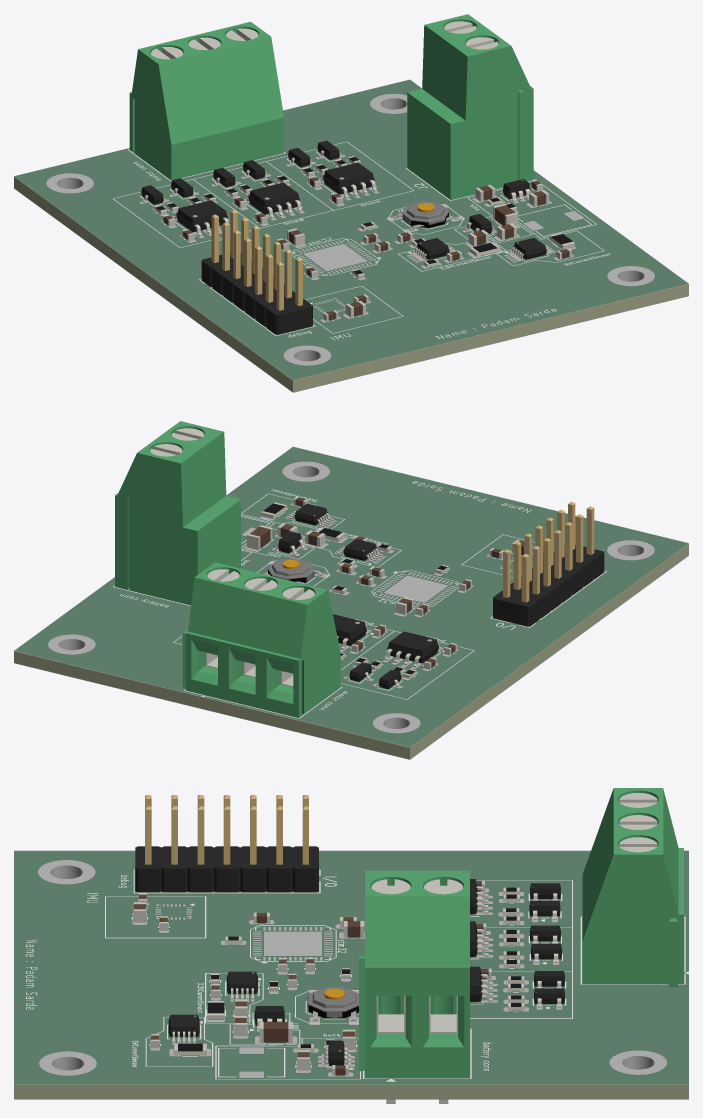
File: board.glb
3 renders of one model, top to bottom at view 1: azimuth 30°, elevation 25°; view 2: azimuth 150°, elevation 25°; view 3: azimuth 270°, elevation 25°, orthographic. The views are drawn at different scales.
Visible parts, largest first — view 1: =>[0:1:1:34], =>[0:1:1:32], =>[0:1:1:25], =>[0:1:1:23], =>[0:1:1:19], =>[0:1:1:30], =>[0:1:1:31], =>[0:1:1:13] (×3), =>[0:1:1:11] (×2), =>[0:1:1:15], =>[0:1:1:33]; view 2: =>[0:1:1:34], =>[0:1:1:32], =>[0:1:1:25], =>[0:1:1:23], =>[0:1:1:19], =>[0:1:1:30], =>[0:1:1:31], =>[0:1:1:13] (×2), =>[0:1:1:11] (×2), =>[0:1:1:15], =>[0:1:1:33]; view 3: =>[0:1:1:34], =>[0:1:1:32], =>[0:1:1:23], =>[0:1:1:25], =>[0:1:1:19], =>[0:1:1:30], =>[0:1:1:31], =>[0:1:1:17] (×6), =>[0:1:1:13] (×3), =>[0:1:1:11] (×2), =>[0:1:1:15], =>[0:1:1:5] (+3 smaller).
Boxes of the visible parts, x1,y1,x2,y2 form: =>[0:1:1:34]: [14, 80, 688, 392]; =>[0:1:1:32]: [14, 79, 688, 380]; =>[0:1:1:25]: [129, 21, 283, 180]; =>[0:1:1:23]: [407, 14, 533, 199]; =>[0:1:1:19]: [201, 210, 312, 334]; =>[0:1:1:30]: [46, 94, 654, 365]; =>[0:1:1:31]: [113, 141, 609, 339]; =>[0:1:1:13] (×3): [174, 162, 377, 236]; =>[0:1:1:11] (×2): [410, 238, 552, 261]; =>[0:1:1:15]: [393, 201, 458, 230]; =>[0:1:1:33]: [15, 189, 688, 392]; =>[0:1:1:34]: [14, 447, 688, 759]; =>[0:1:1:32]: [14, 446, 688, 747]; =>[0:1:1:25]: [182, 562, 340, 717]; =>[0:1:1:23]: [115, 421, 240, 605]; =>[0:1:1:19]: [493, 501, 604, 626]; =>[0:1:1:30]: [48, 461, 654, 733]; =>[0:1:1:31]: [113, 481, 606, 718]; =>[0:1:1:13] (×2): [333, 614, 441, 667]; =>[0:1:1:11] (×2): [288, 503, 382, 562]; =>[0:1:1:15]: [263, 558, 323, 584]; =>[0:1:1:33]: [14, 556, 687, 759]; =>[0:1:1:34]: [14, 852, 688, 1098]; =>[0:1:1:32]: [14, 850, 688, 1084]; =>[0:1:1:23]: [359, 870, 469, 1103]; =>[0:1:1:25]: [582, 788, 683, 987]; =>[0:1:1:19]: [135, 795, 318, 892]; =>[0:1:1:30]: [38, 860, 667, 1077]; =>[0:1:1:31]: [26, 869, 688, 1081]; =>[0:1:1:17] (×6): [529, 883, 564, 1007]; =>[0:1:1:13] (×3): [470, 879, 492, 1001]; =>[0:1:1:11] (×2): [168, 971, 257, 1042]; =>[0:1:1:15]: [307, 987, 358, 1020]; =>[0:1:1:5]: [259, 1021, 292, 1043].
Size of the model in its own units: 0.0535 by 0.023 by 0.0653.
